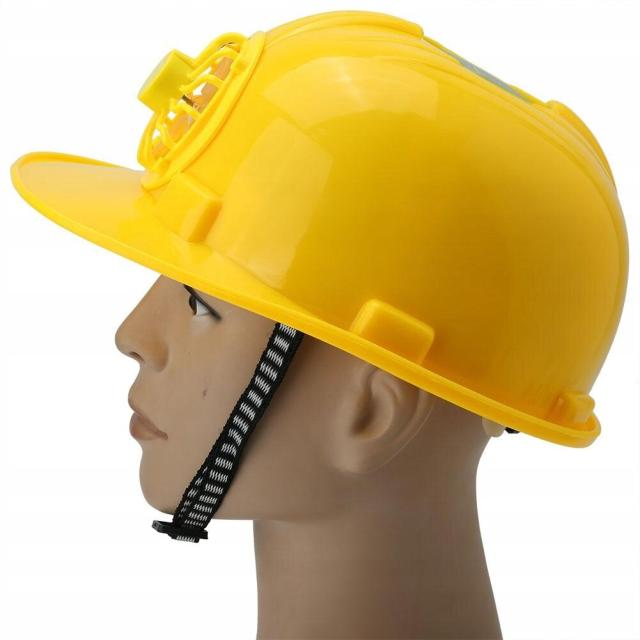illegal_helmet: (4, 2, 640, 559)
